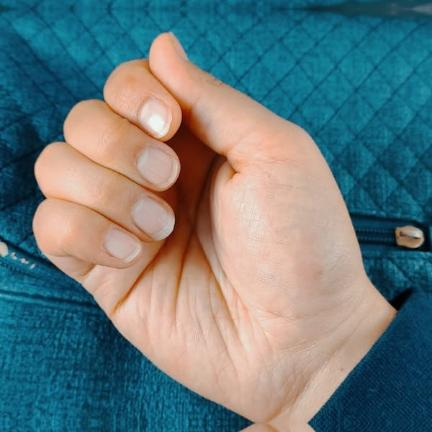Nail: (132, 195, 174, 240), (136, 147, 179, 190), (104, 227, 141, 263), (138, 100, 173, 138), (169, 31, 192, 61)
